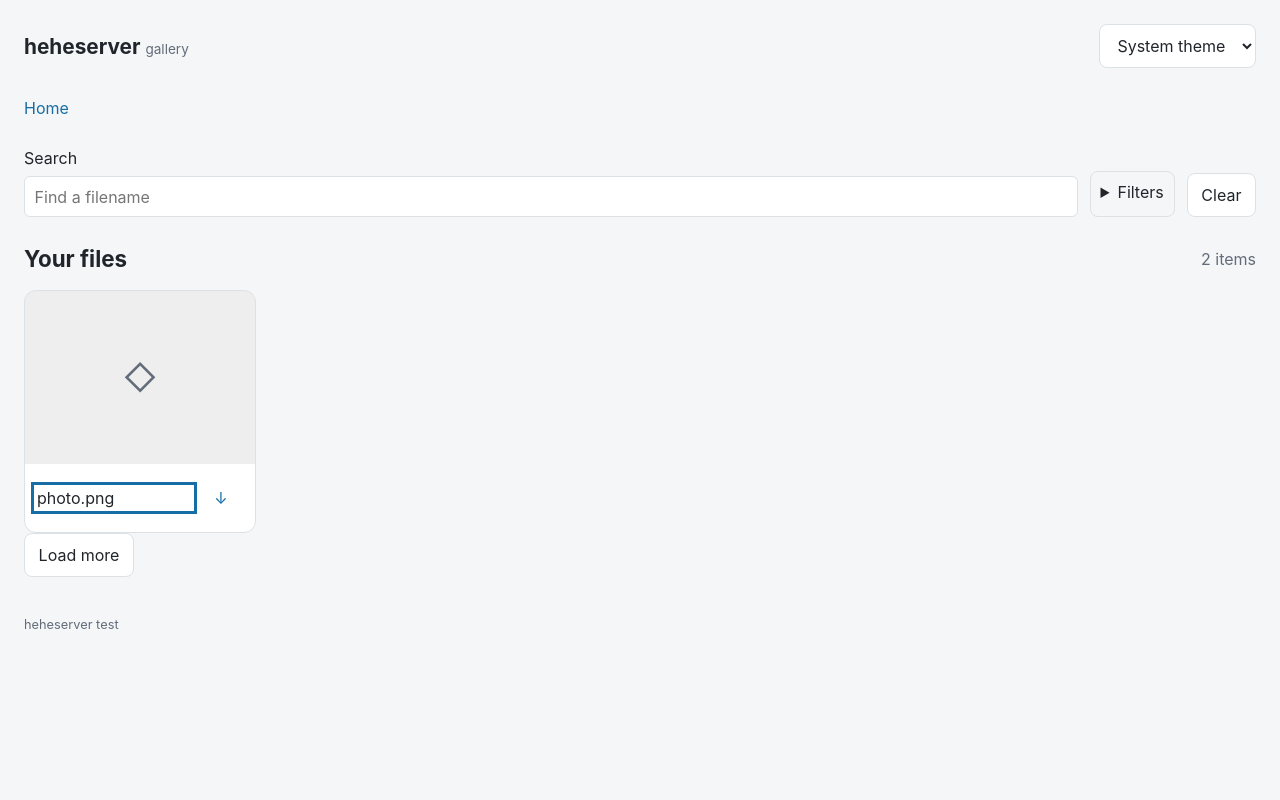
Test case: routing › opens and closes an overlay without remounting gallery tiles
Click the link "photo.png" at coordinates (76, 498), box [37,488,114,508]
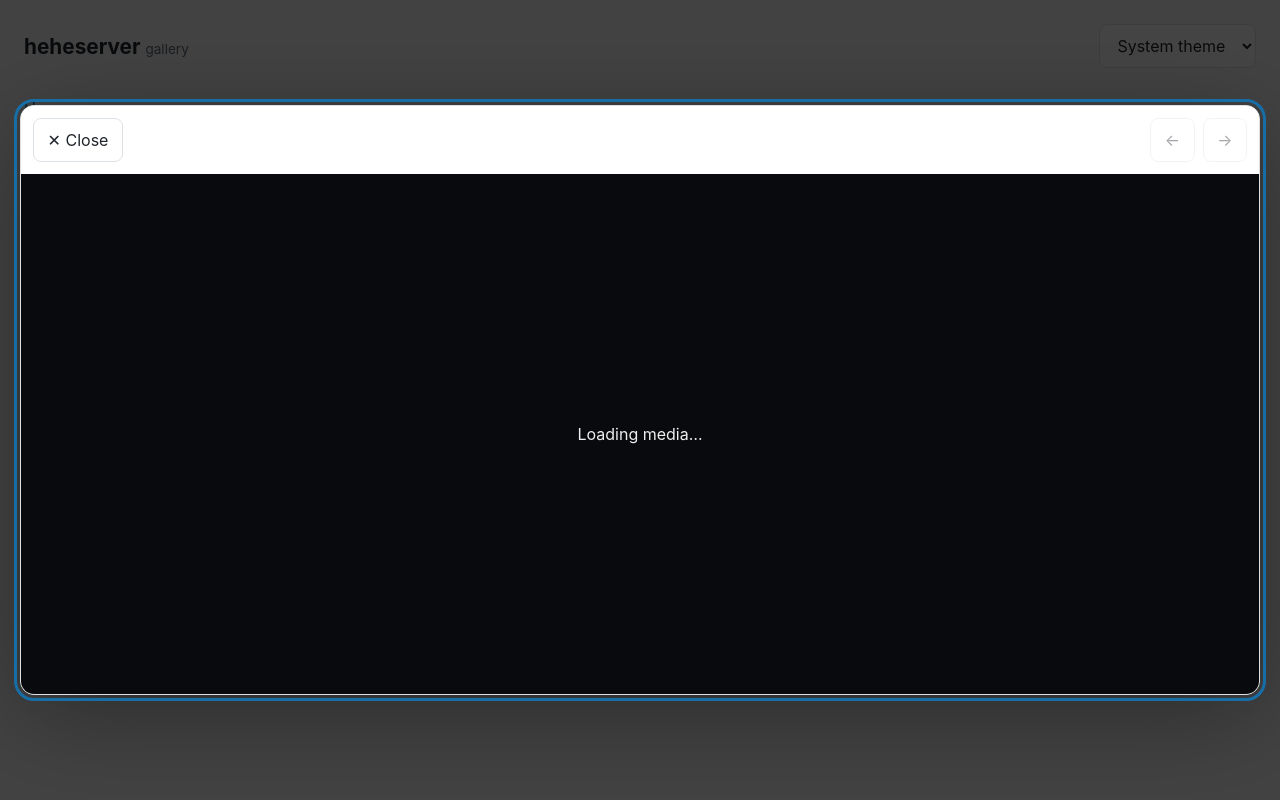
Expected: the dialog is shown
Click the button "✕ Close" at coordinates (78, 140), box [33,118,123,162]
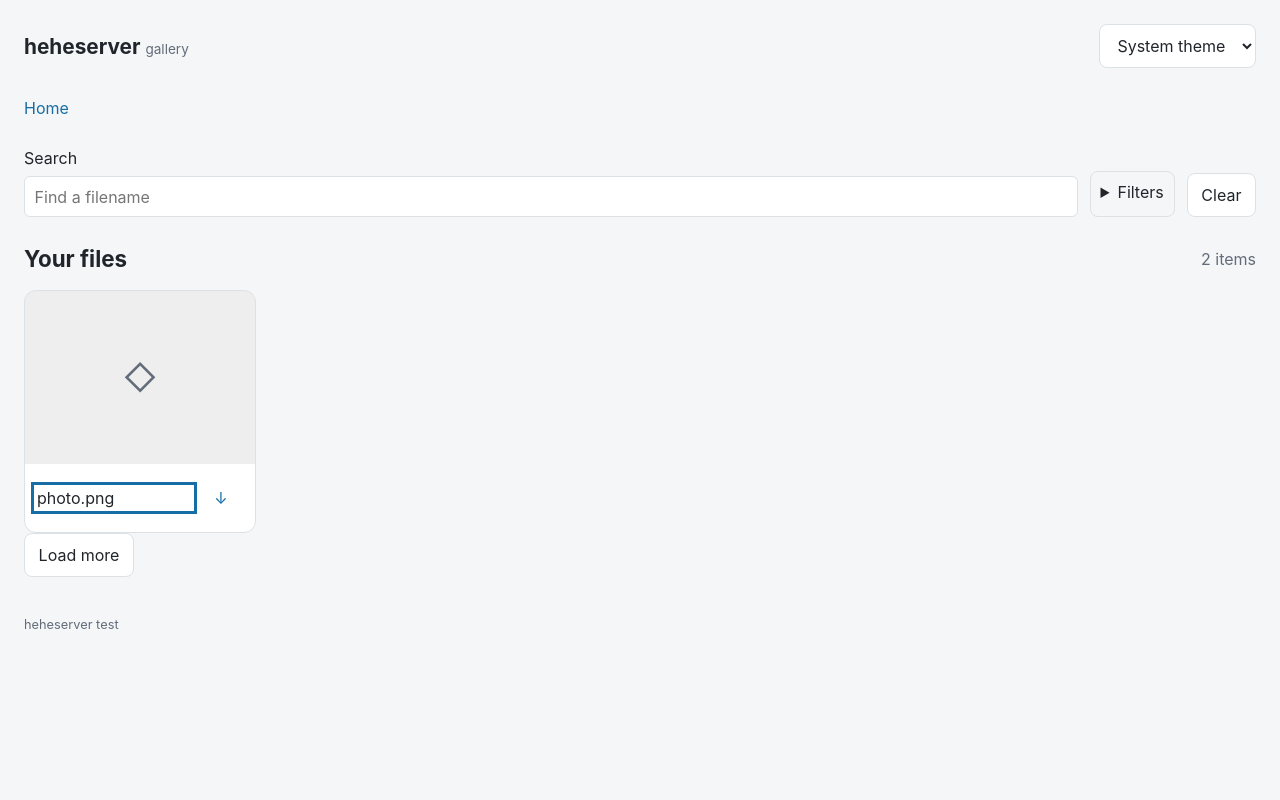
Expected: the dialog is gone
